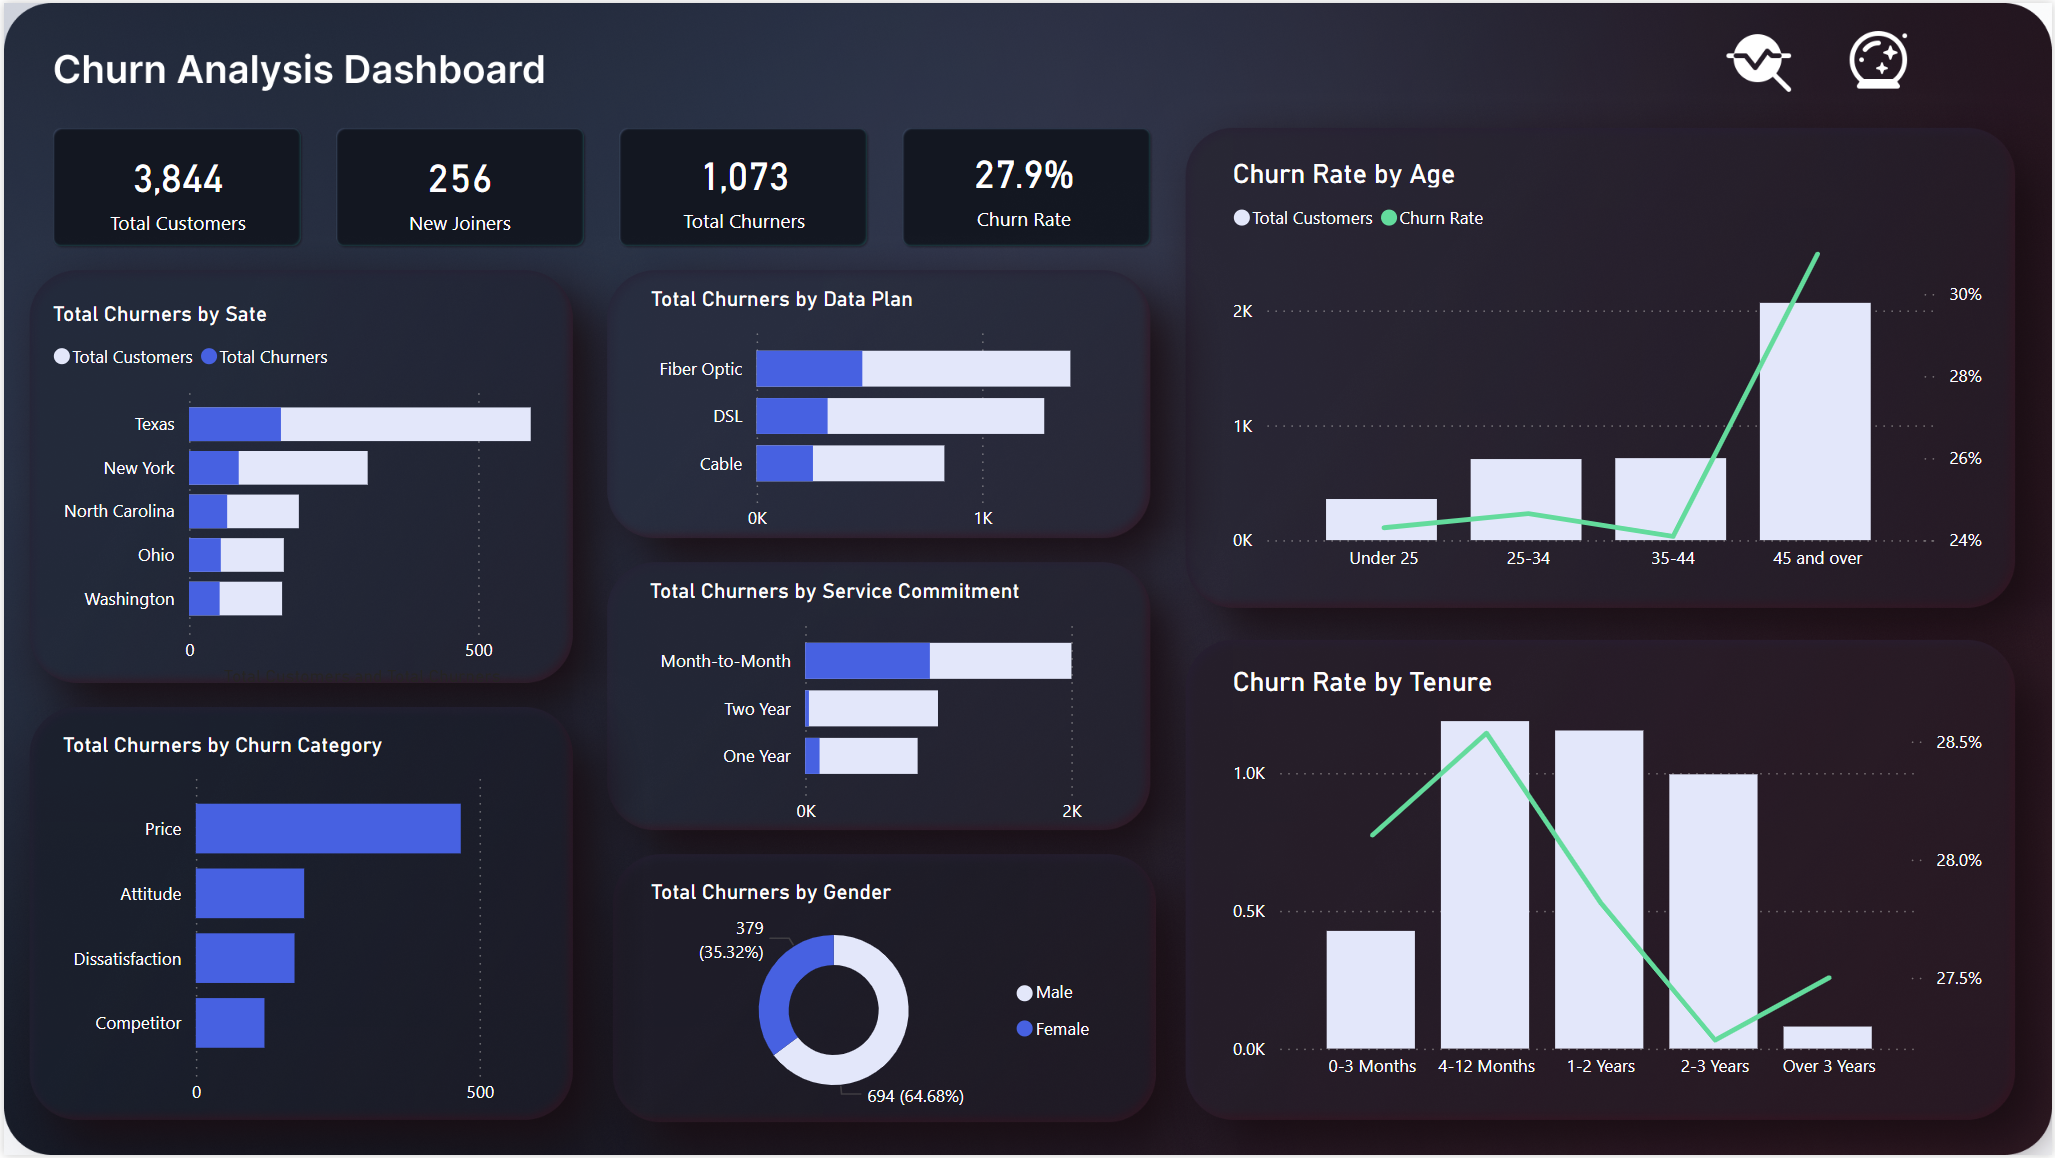

The dashboard page shown, as its layout file describes it:
{"tool":"powerbi","page":{"name":"analysis_dashboard","canvas":[1280,720],"ordinal":0},"visuals":[{"type":"card","fields":{"Values":["measures_table.Total Customers"]},"box":[9.5,0,286.8,161.4],"z":0},{"type":"card","fields":{"Values":["measures_table.Churn Rate"]},"box":[869.8,0,286.8,161.4],"z":1000},{"type":"card","fields":{"Values":["measures_table.Total Churn"]},"box":[583,0,286.8,161.4],"z":2000},{"type":"card","fields":{"Values":["measures_table.New Joiners"]},"box":[296.3,0,286.8,161.4],"z":3000},{"type":"donutChart","fields":{"Y":["measures_table.Total Churn"],"Category":["cleaned_customer_data.gender"]},"box":[10,162,228,140],"z":4000},{"type":"clusteredBarChart","fields":{"Y":["measures_table.Churn Rate"],"Category":["cleaned_customer_data.payment_method"]},"box":[10,316.2,252.5,201.2],"z":5000},{"type":"clusteredBarChart","fields":{"Y":["measures_table.Churn Rate"],"Category":["cleaned_customer_data.data_plan"]},"box":[10,517.5,252.5,183.8],"z":6000},{"type":"lineStackedColumnComboChart","fields":{"Y":["measures_table.Total Customers"],"Category":["age_group_table.age_group"],"Y2":["measures_table.Churn Rate"]},"box":[296.2,162.5,330,216.2],"z":7000},{"type":"lineStackedColumnComboChart","fields":{"Y":["measures_table.Total Customers"],"Category":["tenure_group_table.tenure_group"],"Y2":["measures_table.Churn Rate"]},"box":[296.2,393.8,365,260],"z":8000},{"type":"clusteredBarChart","fields":{"Y":["measures_table.Churn Rate"],"Category":["cleaned_customer_data.state"]},"box":[626,163,244,216],"z":9000},{"type":"clusteredBarChart","fields":{"Y":["measures_table.Total Churn"],"Category":["cleaned_customer_data.churn_category"]},"box":[695,426.2,275,237.5],"z":10000},{"type":"pivotTable","fields":{"Rows":["services_table.services"],"Values":["Sum(services_table.churn_status)"],"Columns":["services_table.status"]},"box":[1013.3,143.3,243.3,273.3],"z":11000},{"type":"clusteredBarChart","fields":{"Y":["measures_table.Churn Rate"],"Category":["cleaned_customer_data.service_commitment"]},"box":[981.7,465,275,236.7],"z":12000}]}

Visuals, with their boxes in screenshot pixels (x1, y1, x2, y2), scaled from the page's 1280x720 canvas onto the 2055x1158 screenshot:
card - measures_table.Total Customers: select_region(15, 0, 476, 260)
card - measures_table.Churn Rate: select_region(1396, 0, 1857, 260)
card - measures_table.Total Churn: select_region(936, 0, 1396, 260)
card - measures_table.New Joiners: select_region(476, 0, 936, 260)
donutChart - measures_table.Total Churn x cleaned_customer_data.gender: select_region(16, 261, 382, 486)
clusteredBarChart - measures_table.Churn Rate x cleaned_customer_data.payment_method: select_region(16, 509, 421, 832)
clusteredBarChart - measures_table.Churn Rate x cleaned_customer_data.data_plan: select_region(16, 832, 421, 1128)
lineStackedColumnComboChart - measures_table.Total Customers x age_group_table.age_group: select_region(476, 261, 1005, 609)
lineStackedColumnComboChart - measures_table.Total Customers x tenure_group_table.tenure_group: select_region(476, 633, 1062, 1052)
clusteredBarChart - measures_table.Churn Rate x cleaned_customer_data.state: select_region(1005, 262, 1397, 610)
clusteredBarChart - measures_table.Total Churn x cleaned_customer_data.churn_category: select_region(1116, 685, 1557, 1067)
pivotTable - services_table.services x Sum(services_table.churn_status): select_region(1627, 230, 2017, 670)
clusteredBarChart - measures_table.Churn Rate x cleaned_customer_data.service_commitment: select_region(1576, 748, 2018, 1129)
